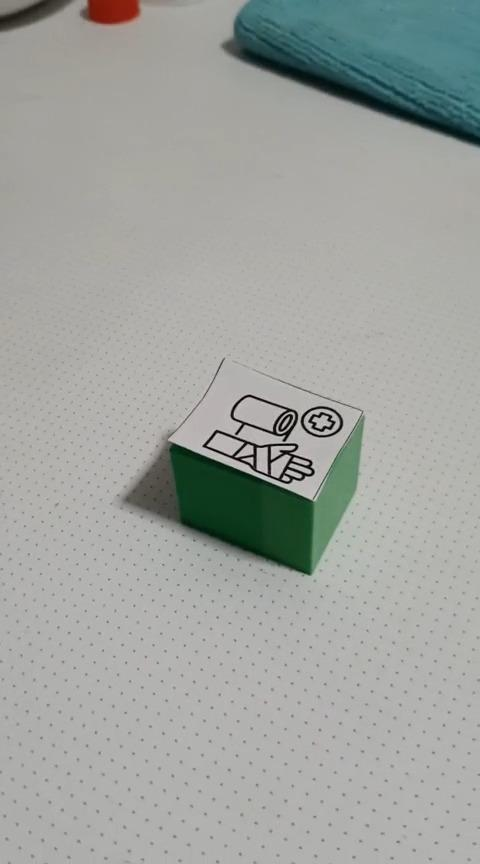Bandages: (166, 355, 365, 575), (232, 0, 479, 145)
